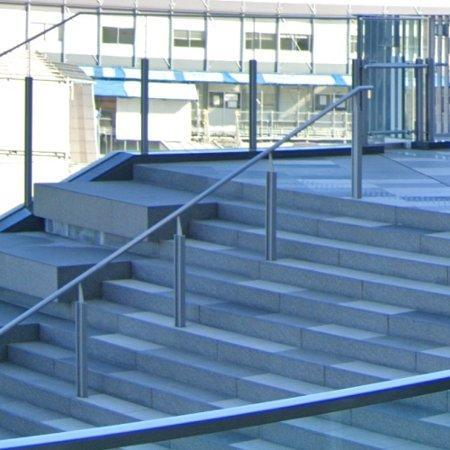stairs: (0, 183, 450, 438), (0, 153, 203, 327), (137, 395, 450, 450)
